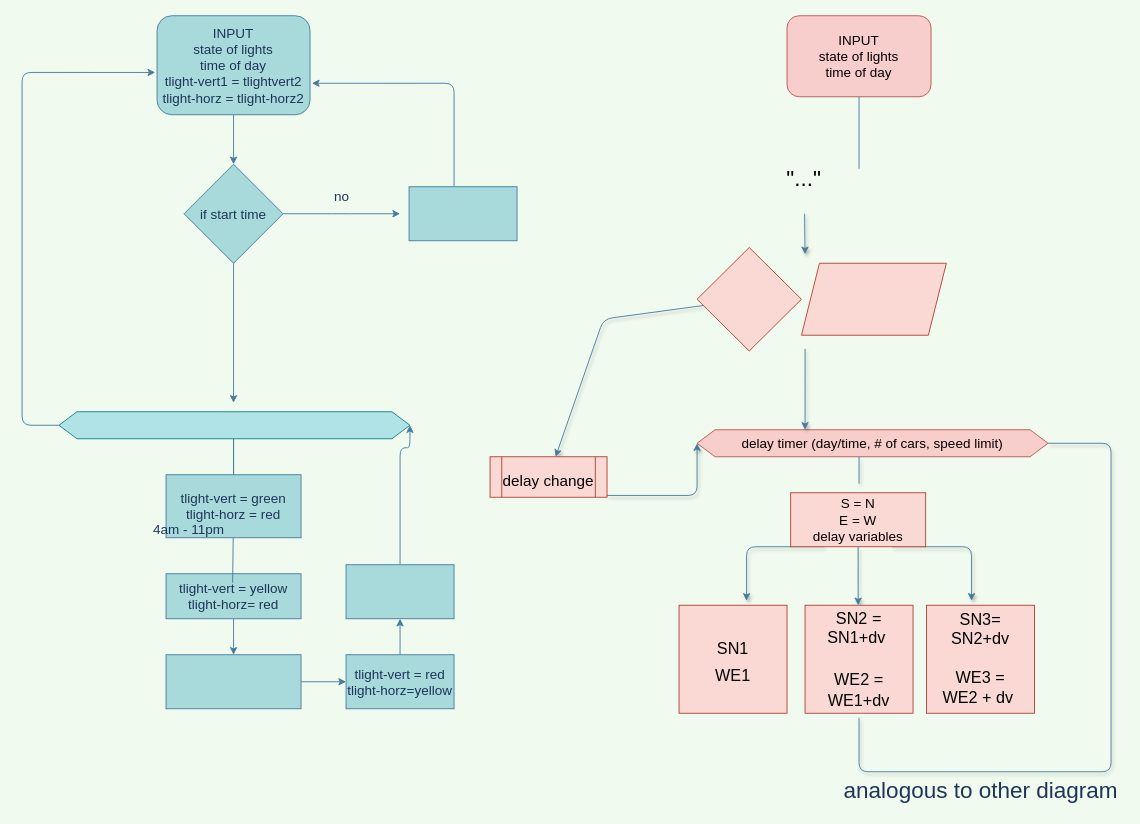
Image size: 1140x824. Some labels were removed from this diagram. Here are the shapes that lost their labels. From the top down, the centre of each, then its label:
At point 462,213: "all lights keep blinking yellow".
At point 748,299: "if rush hour".
At point 873,298: "# cars speed of cars".
At point 234,425: "timer".
At point 399,591: "tlight-vert=red tlight-horz = green".
At point 233,681: "tlight-vert = red tlight-horz=red".
